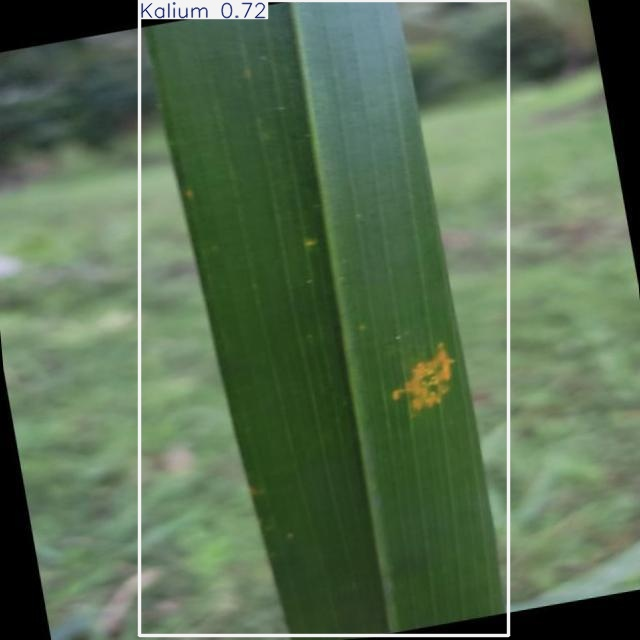Kalium: (140, 0, 508, 635)
